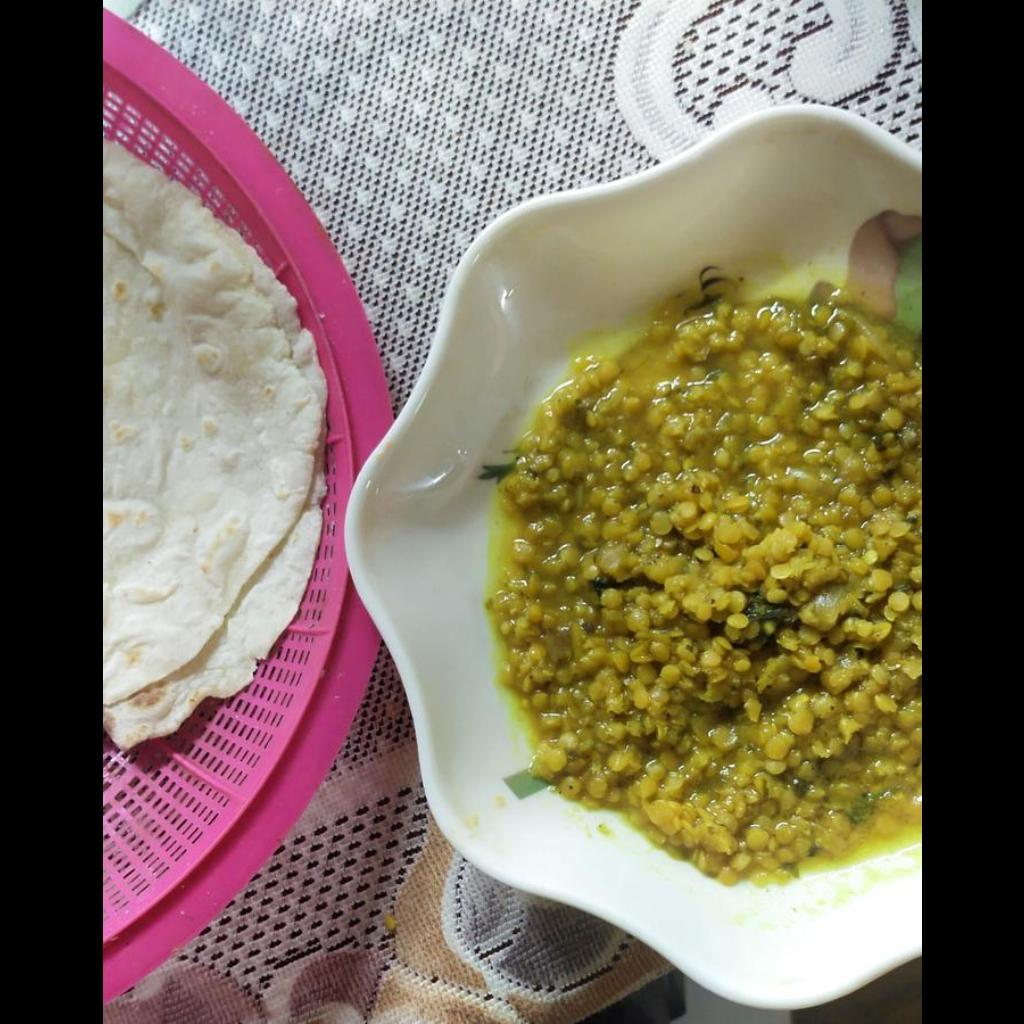daal: (486, 299, 920, 882)
ruti: (104, 140, 327, 750)
